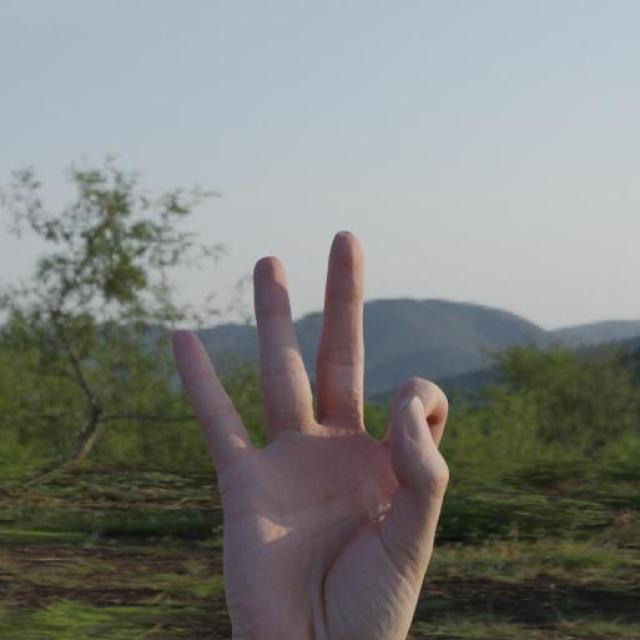F: (167, 229, 454, 640)
